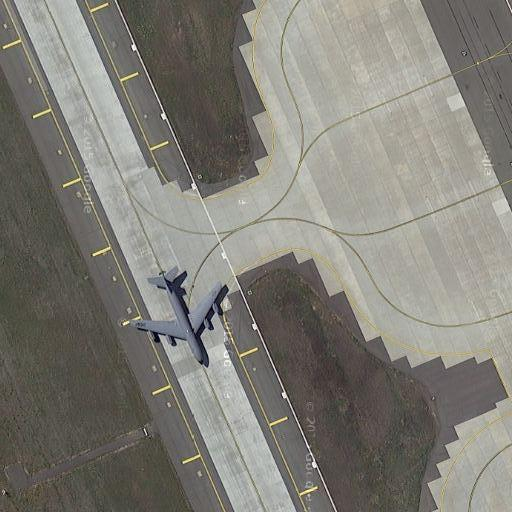KC-135: (127, 262, 227, 367)
